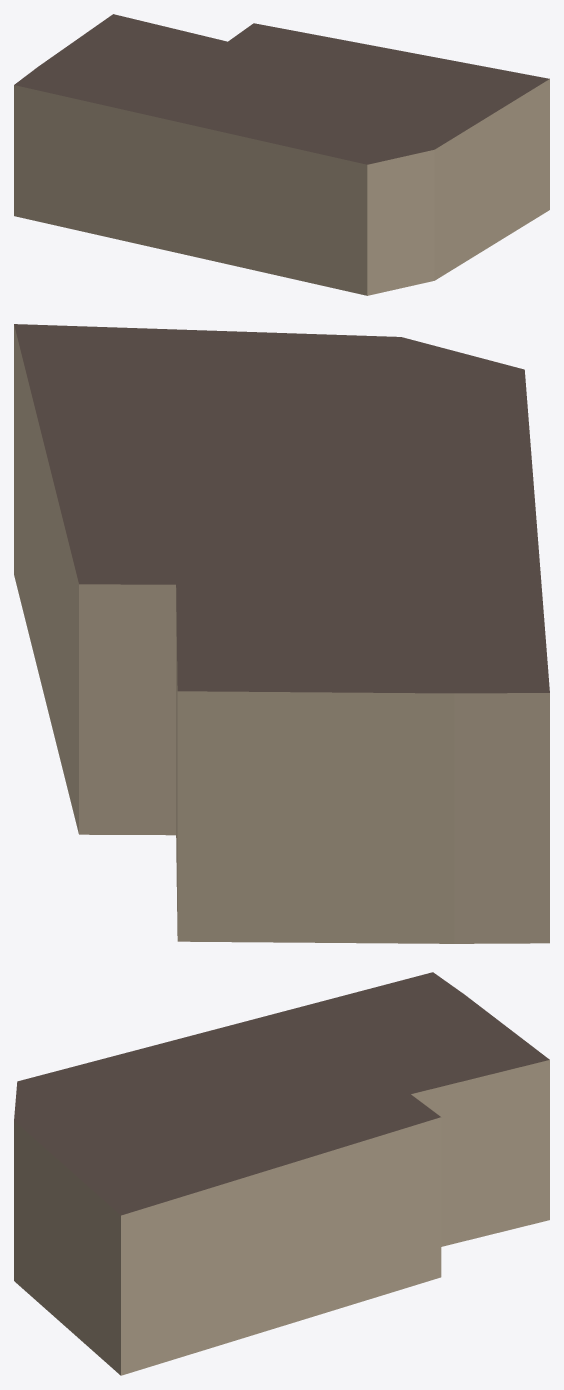
3 views of the same model, one above another, from view 1: azimuth 30°, elevation 25°; view 2: azimuth 150°, elevation 25°; view 3: azimuth 270°, elevation 25° (orthographic). The views are drawn at different scales.
Parts seen in each view (by area): view 1: HP-w1196726538; view 2: HP-w1196726538; view 3: HP-w1196726538.
Part boxes in pixels (box(x1,y1,x2,y2)): HP-w1196726538: box(14, 14, 549, 295); HP-w1196726538: box(14, 324, 549, 943); HP-w1196726538: box(14, 972, 549, 1375).
Bounding box in the file's own units: 29.33 × 9 × 27.29.
